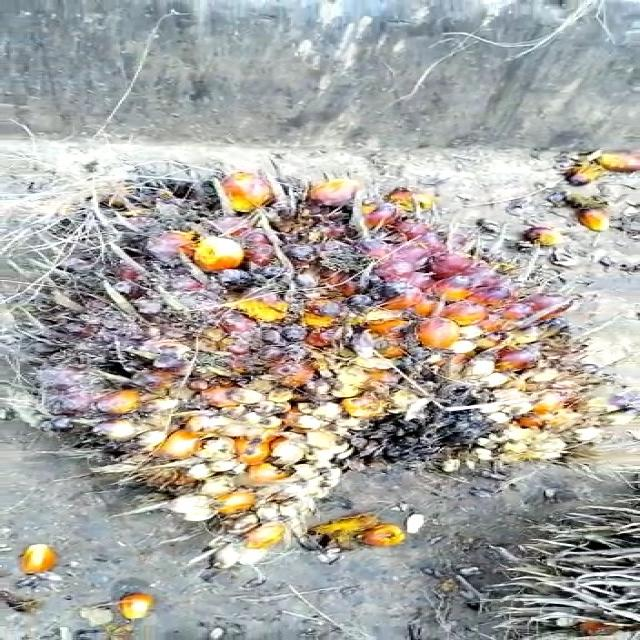palm oil: (16, 160, 631, 566)
